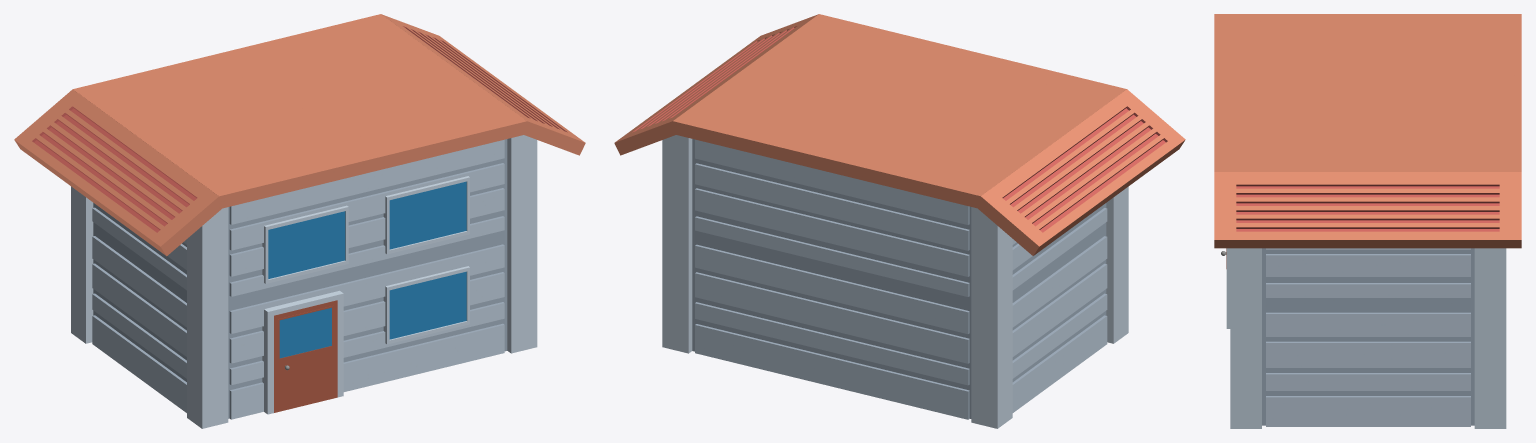
Rendered from PalletTownNormalHouseV1.FBX.
3 renders of one model, left to right at view 1: azimuth 30°, elevation 25°; view 2: azimuth 150°, elevation 25°; view 3: azimuth 270°, elevation 25°, orthographic. The views are drawn at different scales.
Visible parts, largest first — view 1: Box007, Box009, Box010, Object003, Object, Door, Box015, Box013, Box014, Box011, Object002, Box012; view 2: Box007, Box009, Box010, Object002, Object001, Box011, Object003; view 3: Box009, Box007, Box011, Object001, Object, Box012.
Boxes of the visible parts, x1,y1,x2,y2 form: Box007: (92,139,507,419); Box009: (73,14,526,208); Box010: (14,89,223,256); Object003: (187,207,228,428); Object: (507,135,537,353); Door: (274,300,337,412); Box015: (262,205,348,283); Box013: (383,266,469,344); Box014: (383,176,469,254); Box011: (381,14,585,155); Object002: (71,186,93,343); Box012: (262,290,343,414); Box007: (692,139,1107,419); Box009: (672,14,1126,208); Box010: (974,89,1185,255); Object002: (971,207,1012,428); Object001: (662,135,692,353); Box011: (614,14,818,155); Object003: (1106,186,1128,343); Box009: (1214,14,1521,171); Box007: (1262,248,1474,426); Box011: (1214,172,1521,248); Object001: (1474,248,1506,428); Object: (1230,248,1261,428); Box012: (1226,248,1230,328).
Size of the model in its own units: 39.7 by 21.05 by 23.67.
